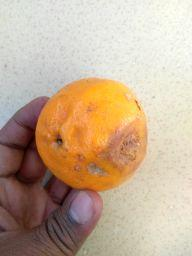Unripe: (36, 78, 148, 191)
